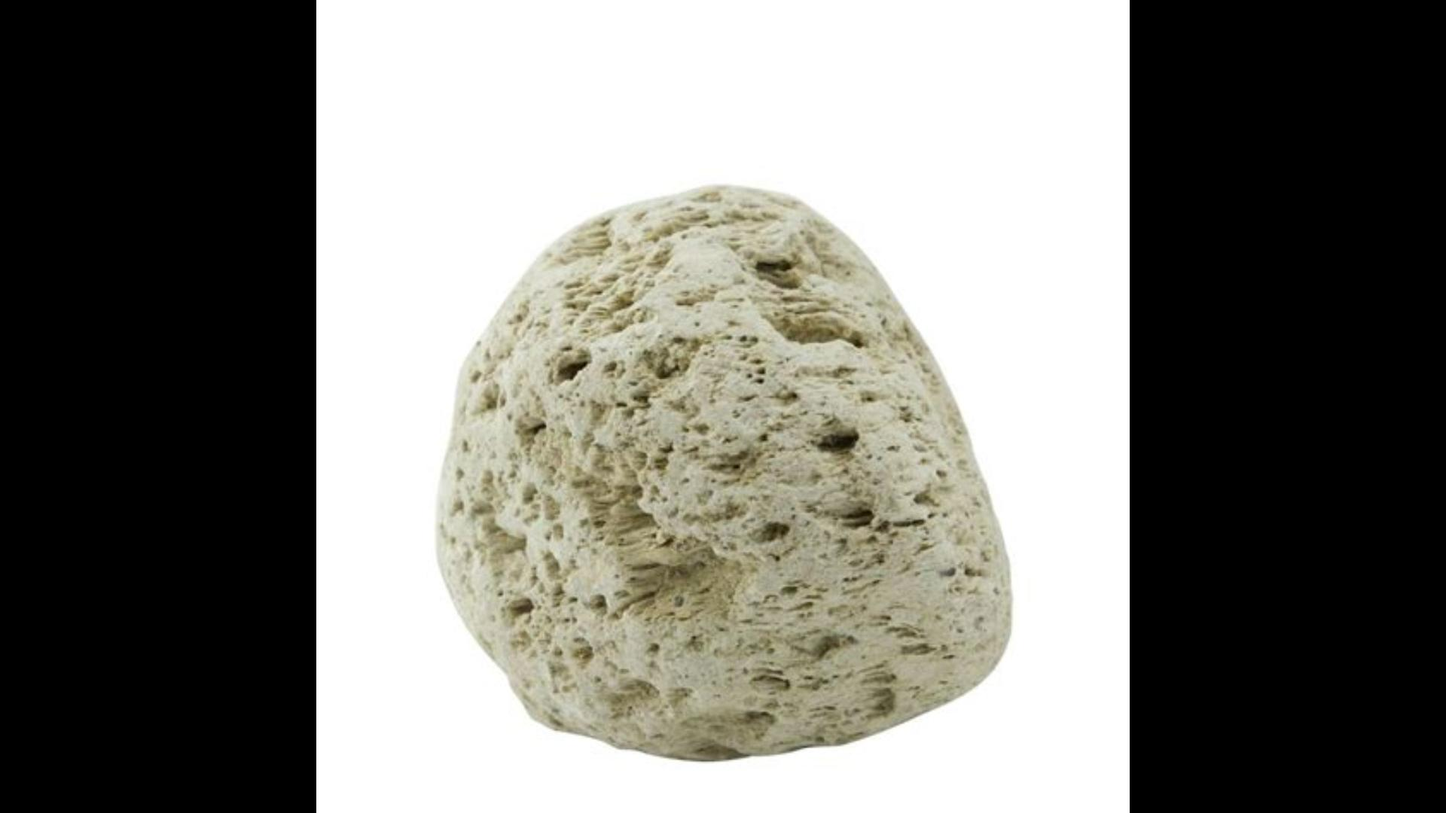rock: (438, 187, 1008, 756)
